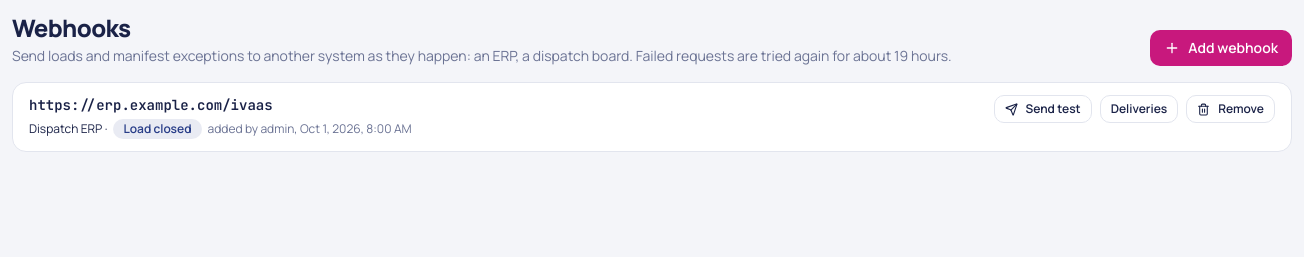
webhooks › asks twice before removing an endpoint and its history
Click the button "Remove". click: (1231, 109)
box: [1186,95,1275,123]
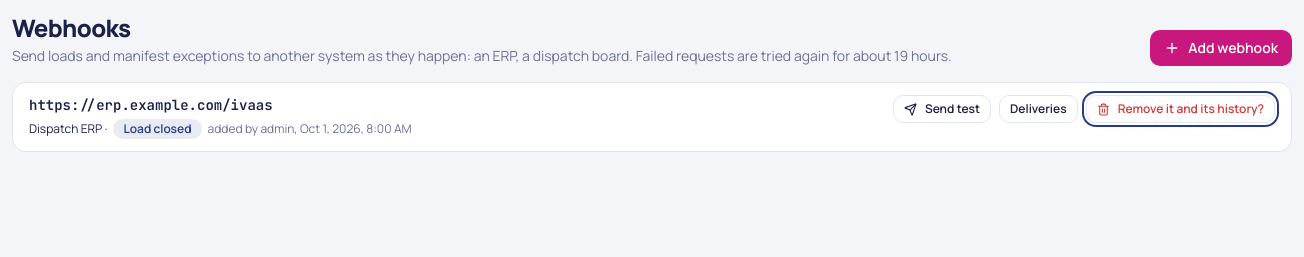
Click the button "Remove it and its history?". click: (1180, 109)
box: [1086,95,1275,123]
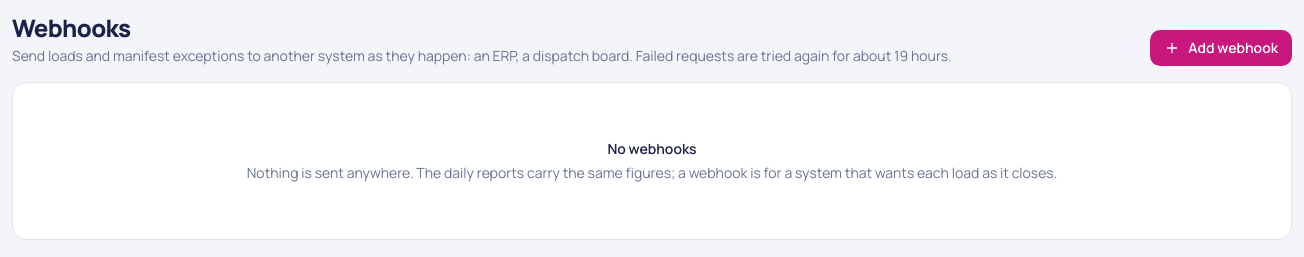
expect the text "No webhooks" is shown: met, box [607,139,697,158]
